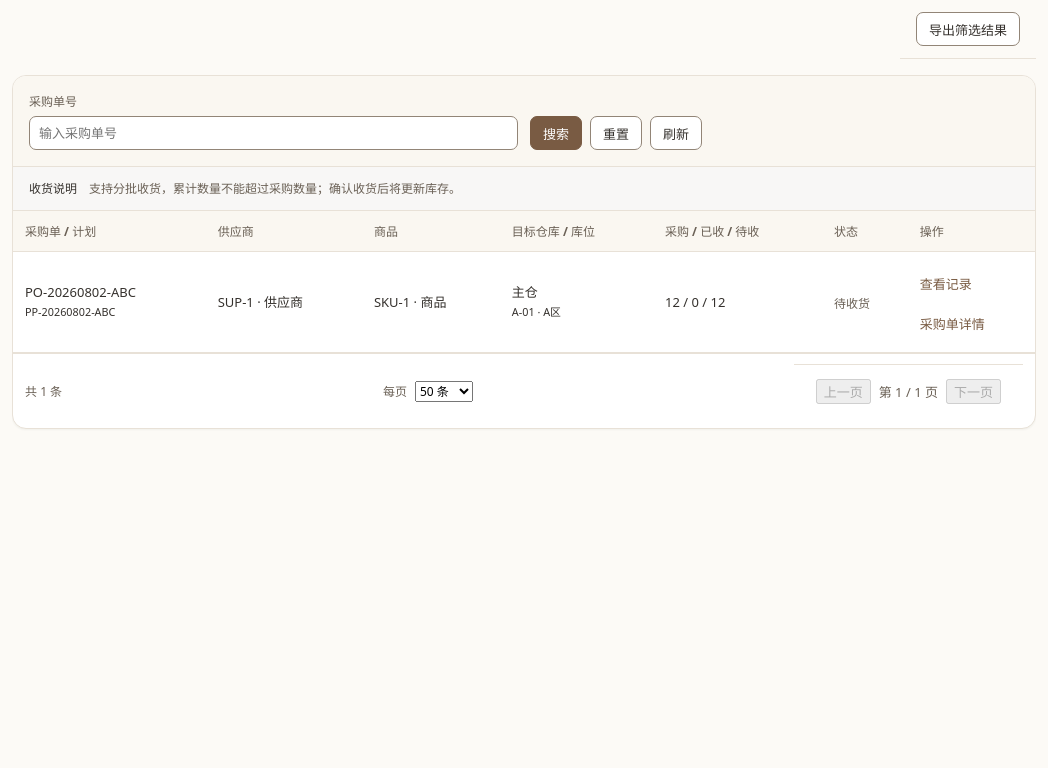
Test: procurement receiving page › lets read-only users inspect receipts without exposing the write form
What coordinates should you click on to do the following:
click the button "查看记录"
I would click on:
 (946, 284)
Its box is 920,266 -> 972,302.
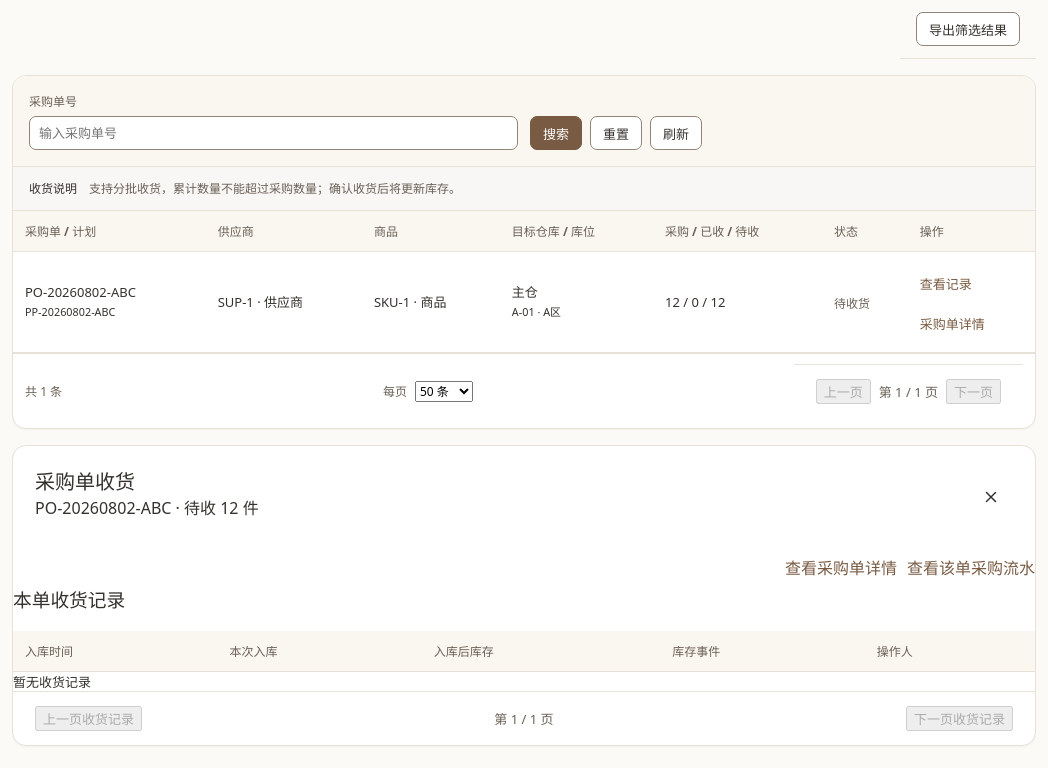
Check: the table named "本单收货记录" is shown, box 13,631 -> 1035,691
